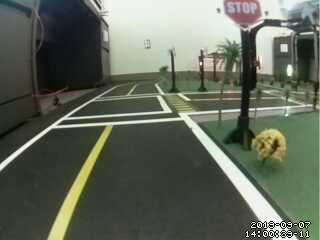Stop_Sign: (220, 1, 269, 36)
